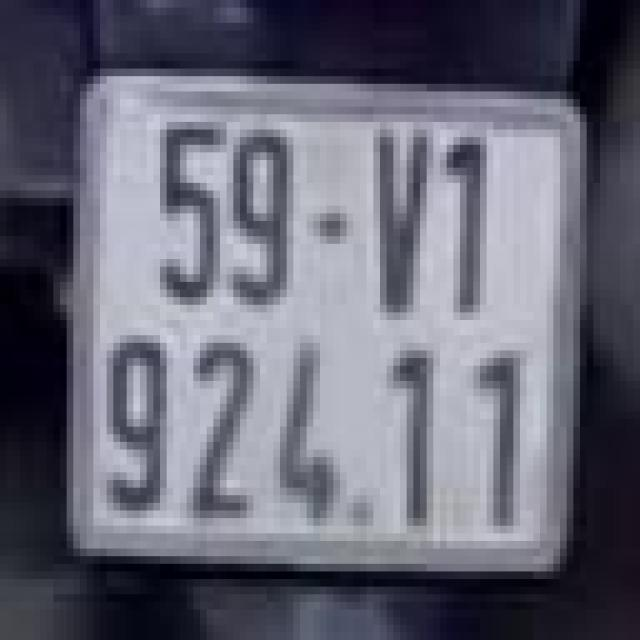1: (466, 343, 526, 533), (387, 332, 440, 537), (443, 126, 497, 324)
2: (184, 332, 264, 530)
4: (274, 328, 354, 533)
5: (150, 99, 223, 312)
9: (96, 324, 176, 537), (230, 122, 303, 328)
V: (367, 122, 433, 320)
